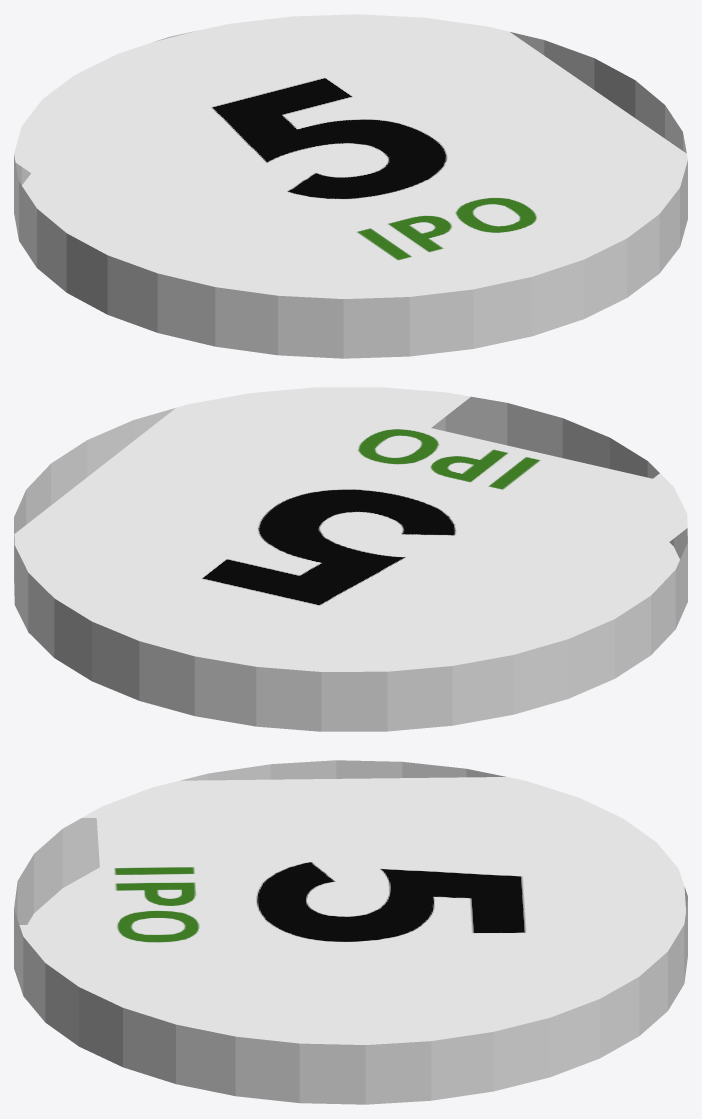
File: Lima.fbx
The picture shows the model from 3 angles, top to bottom: view 1: azimuth 30°, elevation 25°; view 2: azimuth 150°, elevation 25°; view 3: azimuth 270°, elevation 25°; orthographic projection.
Visible parts, largest first — view 1: Cylinder; view 2: Cylinder; view 3: Cylinder.
Boxes of the visible parts, box(x1,y1,x2,y2) form: Cylinder: box(14, 14, 687, 358); Cylinder: box(14, 387, 687, 731); Cylinder: box(14, 760, 687, 1104).
Bounding box in the file's own units: 243 × 23.72 × 243.
